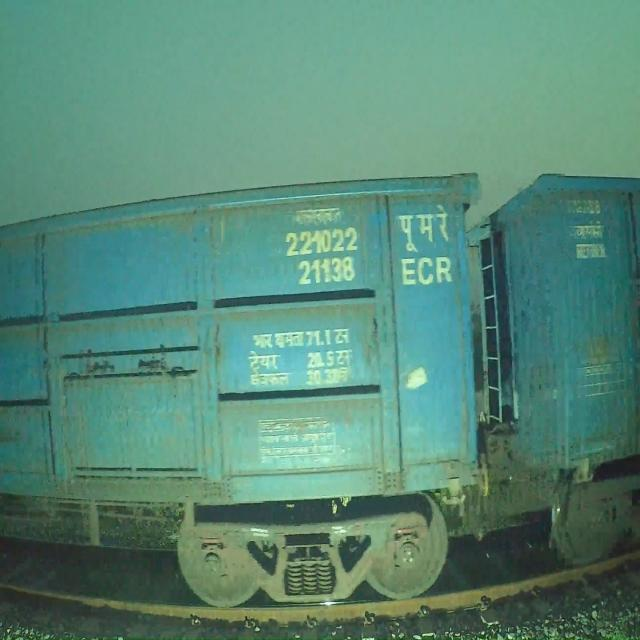WAgon-uic: (0, 170, 481, 607), (469, 177, 639, 572)
uic: (285, 228, 359, 288)
